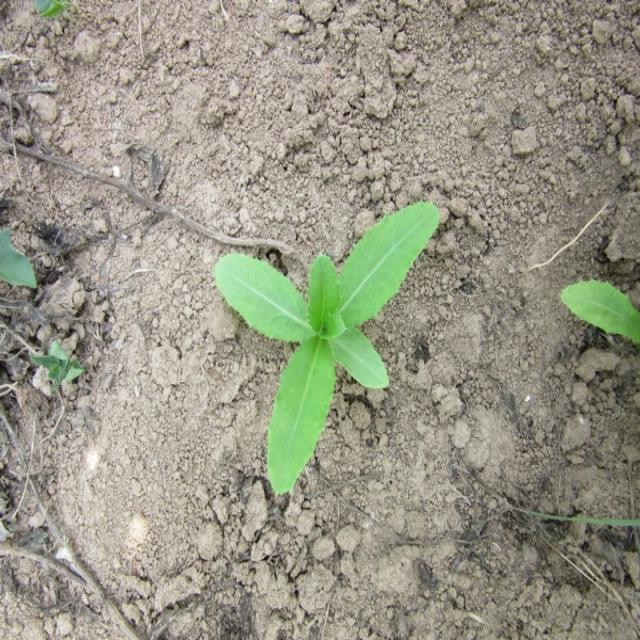cs: (208, 203, 444, 503)
